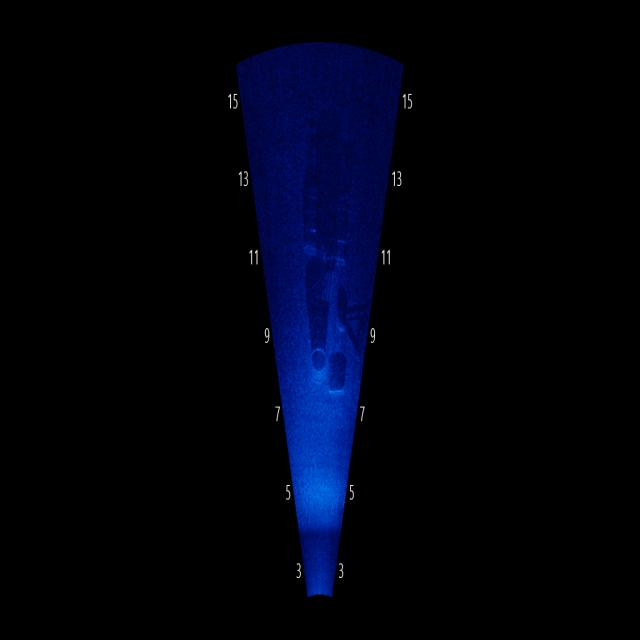circle: (306, 332, 328, 402)
square: (330, 338, 349, 416)
